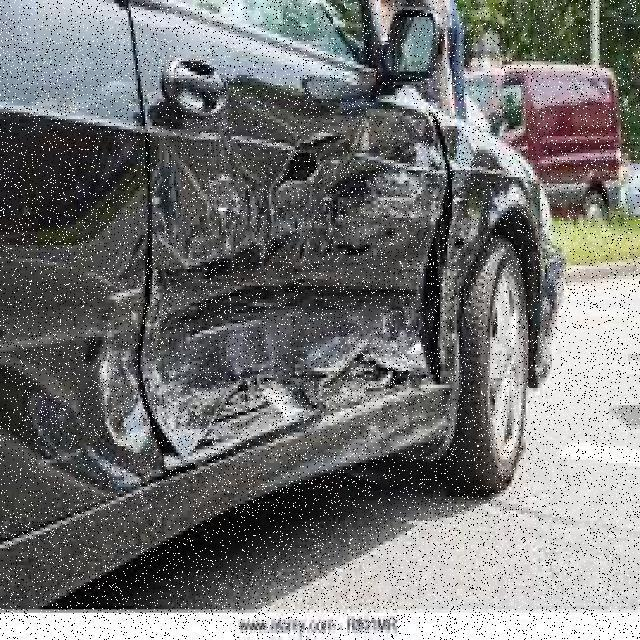RunningBoard-Dent: (290, 392, 467, 469)
doorouter-dent: (145, 68, 452, 398), (0, 16, 143, 484)
